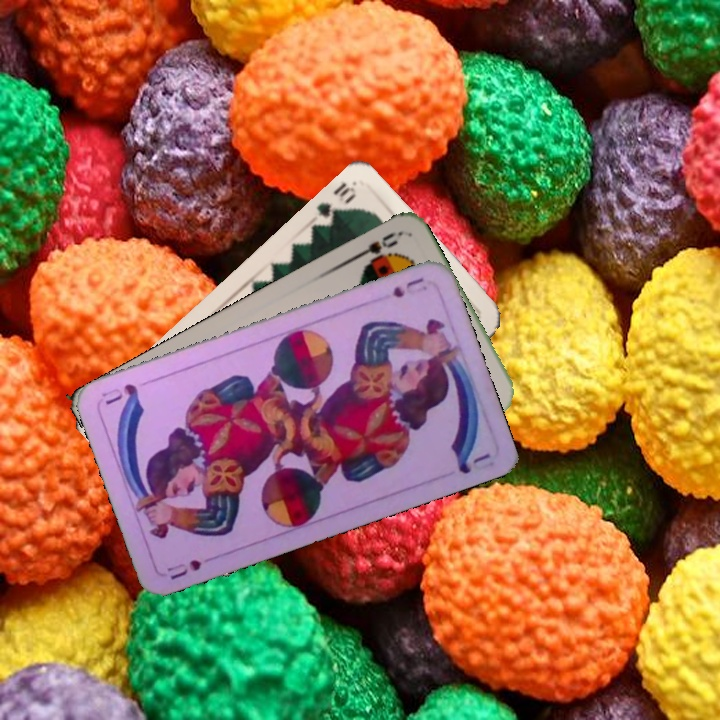G10: (312, 178, 359, 230)
SO: (348, 227, 403, 270)
SU: (162, 555, 204, 582), (388, 273, 426, 300)
